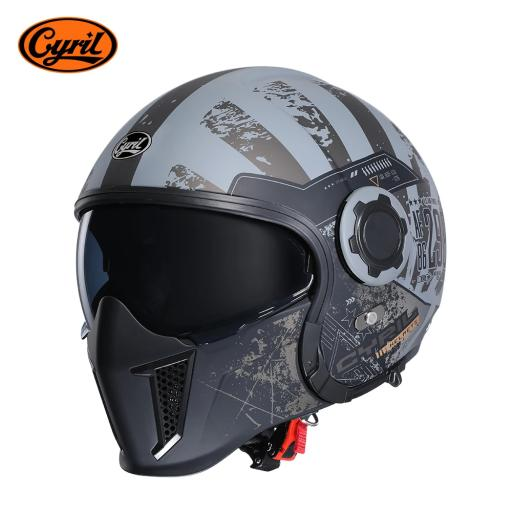helmet-detection: (5, 30, 498, 506)
